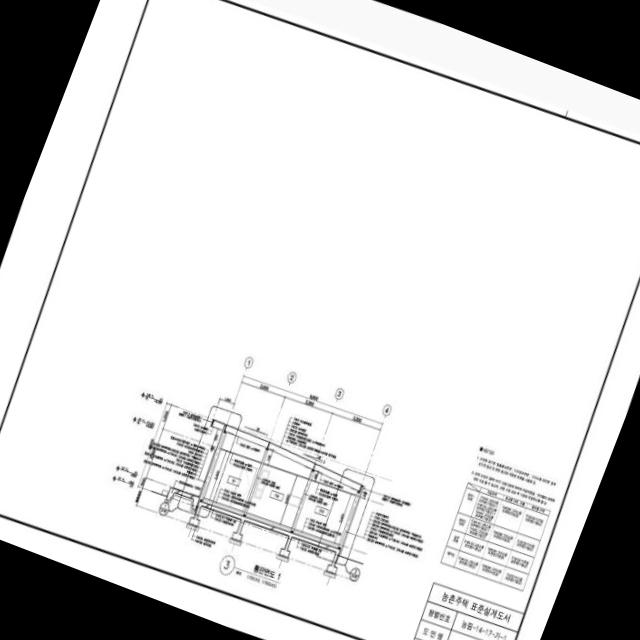background: (0, 0, 640, 640)
space_bedroom: (204, 432, 266, 511), (294, 470, 357, 544)
space_living_room: (247, 449, 311, 527)
